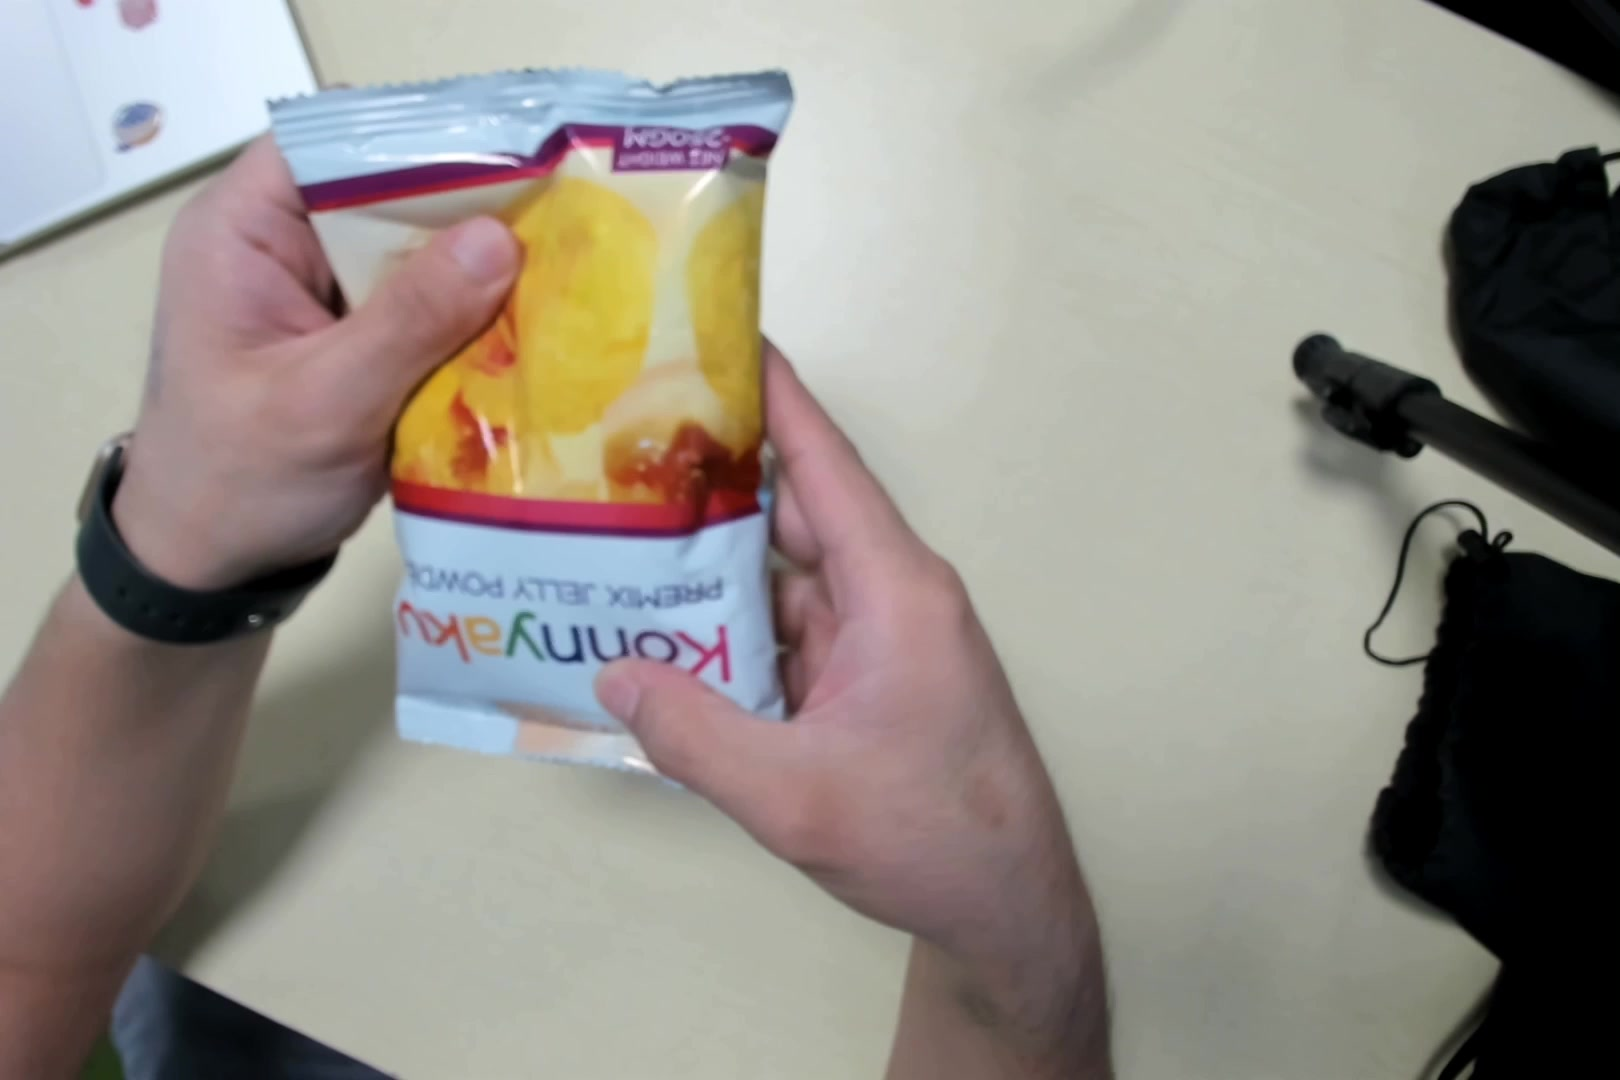OtherBakingNeeds_200-299g_Halal_NonHealthy: (278, 82, 791, 780)
